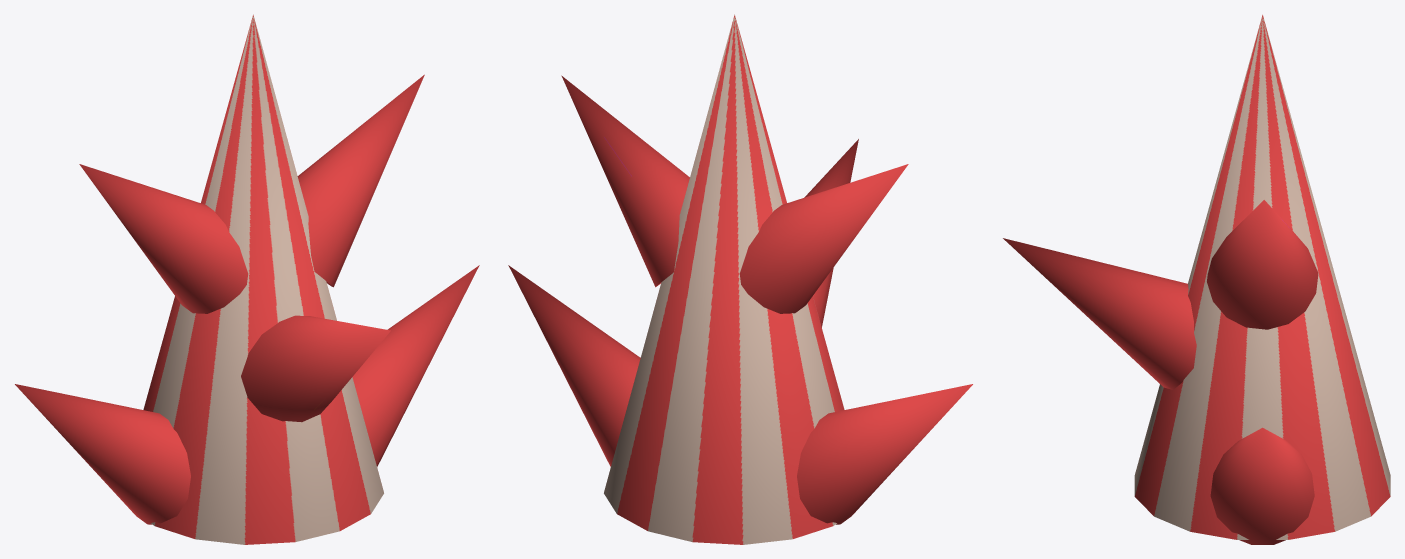
File: ship2.fbx
The picture shows the model from 3 angles, left to right: view 1: azimuth 30°, elevation 25°; view 2: azimuth 150°, elevation 25°; view 3: azimuth 270°, elevation 25°; orthographic projection.
Visible parts, largest first — view 1: ship_002; view 2: ship_002; view 3: ship_002.
Part boxes in pixels (bbox=[...]): ship_002: bbox=[15, 14, 479, 544]; ship_002: bbox=[508, 14, 972, 544]; ship_002: bbox=[1003, 14, 1390, 544].
Size of the model in its own units: 205 by 203 by 149.
